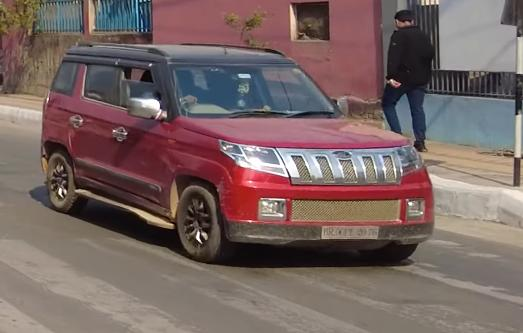SUV: (36, 30, 439, 273)
